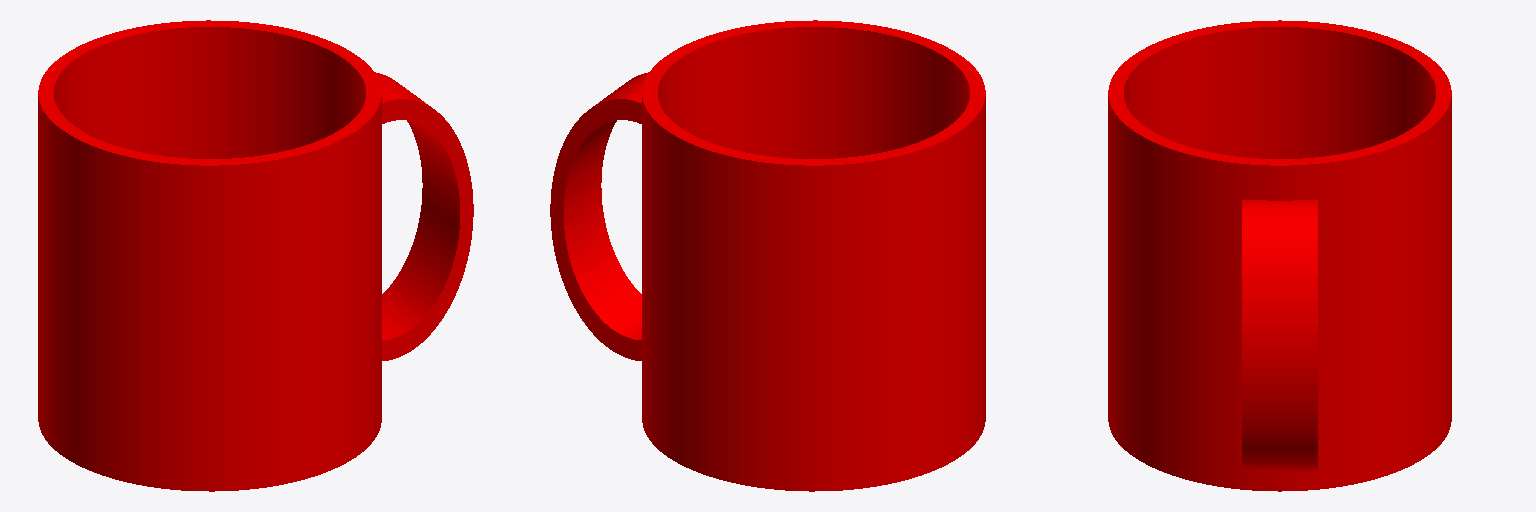
The robot description file, URDF, robot "mug.urdf":
<?xml version="1.0" ?>
<robot name="mug.urdf">
  <link name="baseLink">
    <inertial>
      <origin rpy="0 0 0" xyz="0 0 0"/>
       <mass value=".1"/>
       <inertia ixx="1" ixy="0" ixz="0" iyy="1" iyz="0" izz="1"/>
    </inertial>
    <visual>
      <origin rpy="0 0 0" xyz="0 0 0"/>
      <geometry>
        <mesh filename="17.stl" scale="1 1 1" />
      </geometry>
      <material name="red">
        <color rgba="1 0 0 1"/>
      </material>
    </visual>
    <collision>
      <origin rpy="0 0 0" xyz="0 0 0"/>
      <geometry>
        <mesh filename="17_convex.obj" scale="1 1 1" />
      </geometry>
    </collision>
  </link>
</robot>

--- Facts derived from the render (not from the file) ---
Views: 3 orthographic renders of the robot side by side, from view 1: azimuth 30°, elevation 25°; view 2: azimuth 150°, elevation 25°; view 3: azimuth 270°, elevation 25°.
Robot: mug.urdf — 1 links, 0 joints (none); root link baseLink; default pose: all joints at 0.
Visible links, largest first — view 1: baseLink; view 2: baseLink; view 3: baseLink.
Boxes of the visible links, box(x1,y1,x2,y2) form: baseLink: box(38, 20, 473, 491); baseLink: box(550, 20, 985, 491); baseLink: box(1108, 20, 1451, 491).
Bounding box of the posed robot: 0.1482 × 0.1121 × 0.1173 m (x, y, z).
Meshes: 1 distinct files referenced, 1 mesh visuals loaded (1 binary STL).